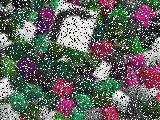Right: (47, 0, 98, 52)
